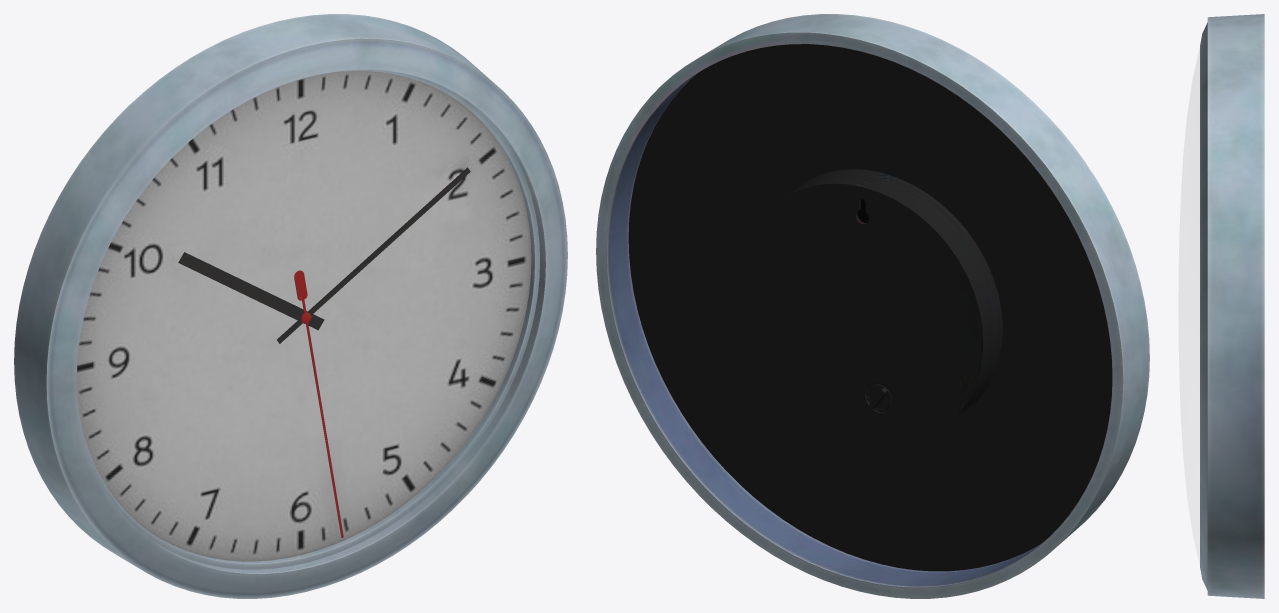
Rendered from clock.cb96f0948b.glb.
3 views of the same model, side by side, from view 1: azimuth 30°, elevation 25°; view 2: azimuth 150°, elevation 25°; view 3: azimuth 270°, elevation 25° (orthographic). The views are drawn at different scales.
Parts seen in each view (by area): view 1: wall_clock, wall_clock_hours_hand, wall_clock_minute_hand, wall_clock_second_hand; view 2: wall_clock; view 3: wall_clock.
Boxes of the visible parts, x1=… form: wall_clock: x1=14, y1=14, x2=567, y2=598; wall_clock_hours_hand: x1=178, y1=252, x2=324, y2=330; wall_clock_minute_hand: x1=277, y1=167, x2=470, y2=343; wall_clock_second_hand: x1=294, y1=270, x2=343, y2=537; wall_clock: x1=596, y1=14, x2=1149, y2=598; wall_clock: x1=1179, y1=14, x2=1264, y2=598.
Size of the model in its own units: 0.3205 by 0.3205 by 0.0472.
Materials: 2 (1 with a texture image).
